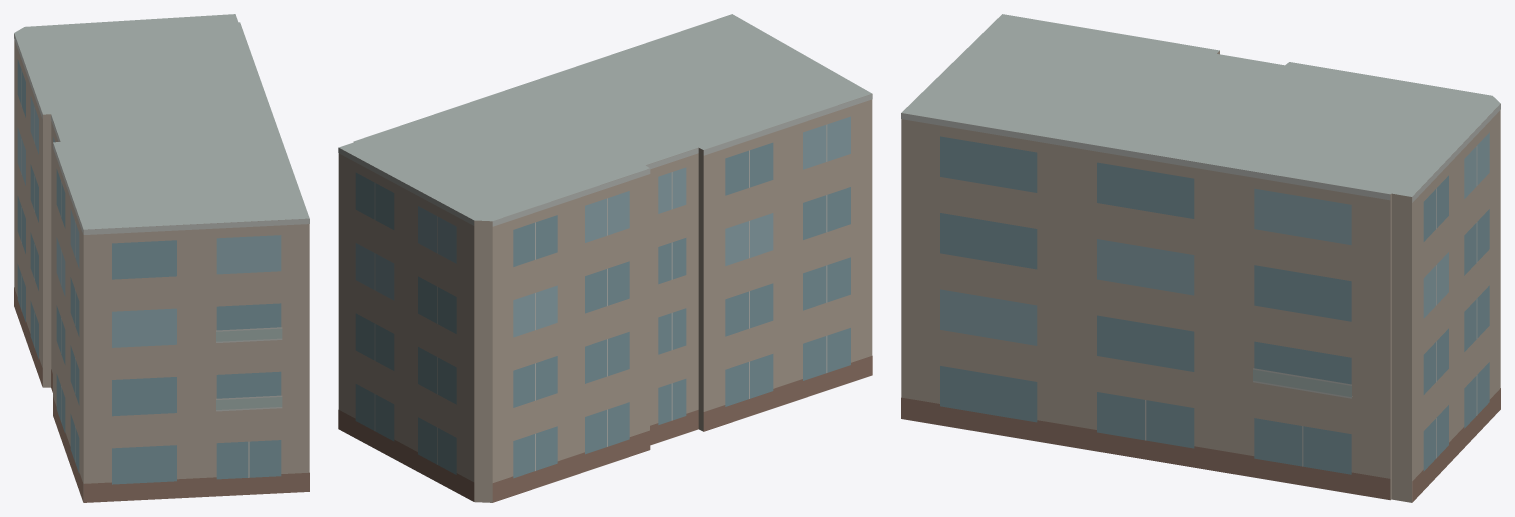
The model's file is survey-upis-32653911.glb.
3 renders of one model, left to right at view 1: azimuth 30°, elevation 25°; view 2: azimuth 150°, elevation 25°; view 3: azimuth 270°, elevation 25°, orthographic. The views are drawn at different scales.
Parts seen in each view (by area): view 1: survey-upis-32653911.tmp; view 2: survey-upis-32653911.tmp; view 3: survey-upis-32653911.tmp.
Boxes of the visible parts, box(x1,y1,x2,y2) form: survey-upis-32653911.tmp: box(14, 14, 309, 502); survey-upis-32653911.tmp: box(338, 14, 872, 502); survey-upis-32653911.tmp: box(901, 14, 1500, 502).
Bounding box in the file's own units: 15.66 × 12.2 × 21.68.
